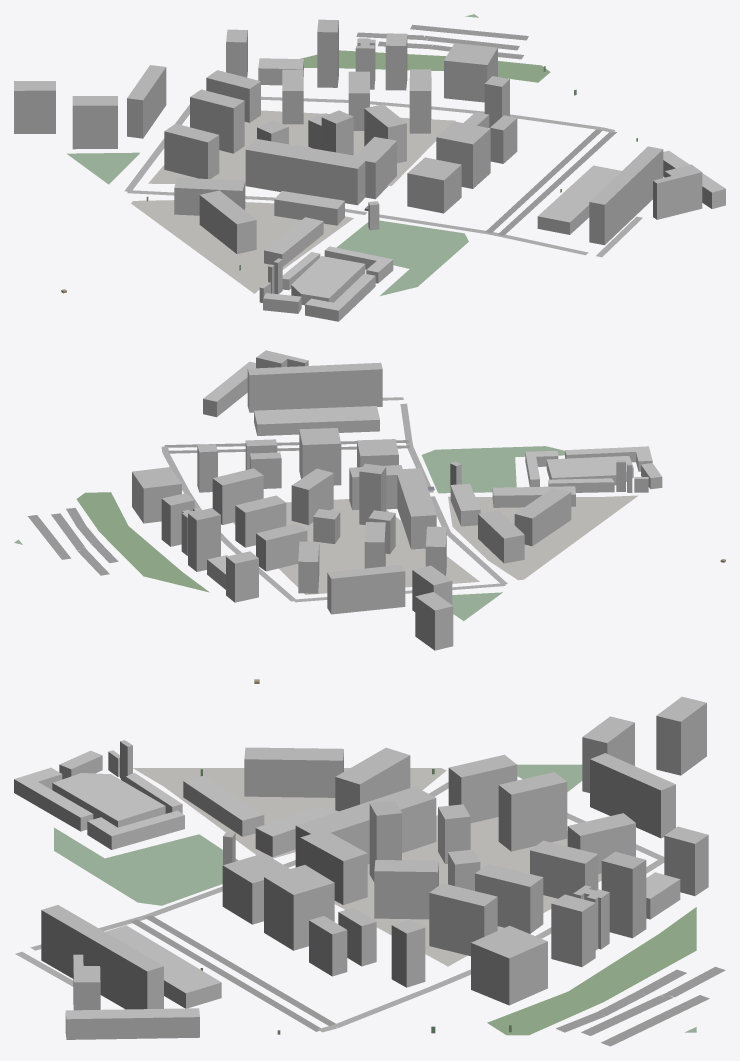
3 renders of one model, top to bottom at view 1: azimuth 30°, elevation 25°; view 2: azimuth 150°, elevation 25°; view 3: azimuth 270°, elevation 25°, orthographic. The views are drawn at different scales.
Bounding box in the file's own units: 682 × 64.47 × 554.
